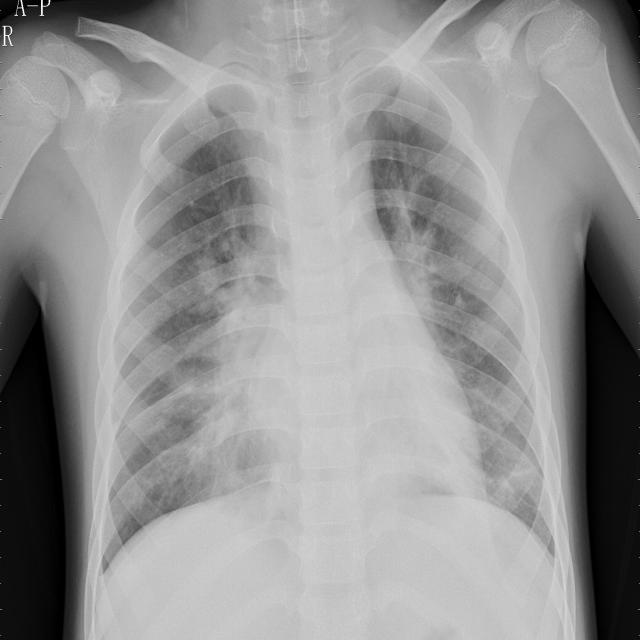low-pneumonia: (191, 260, 278, 484), (382, 193, 446, 336)
